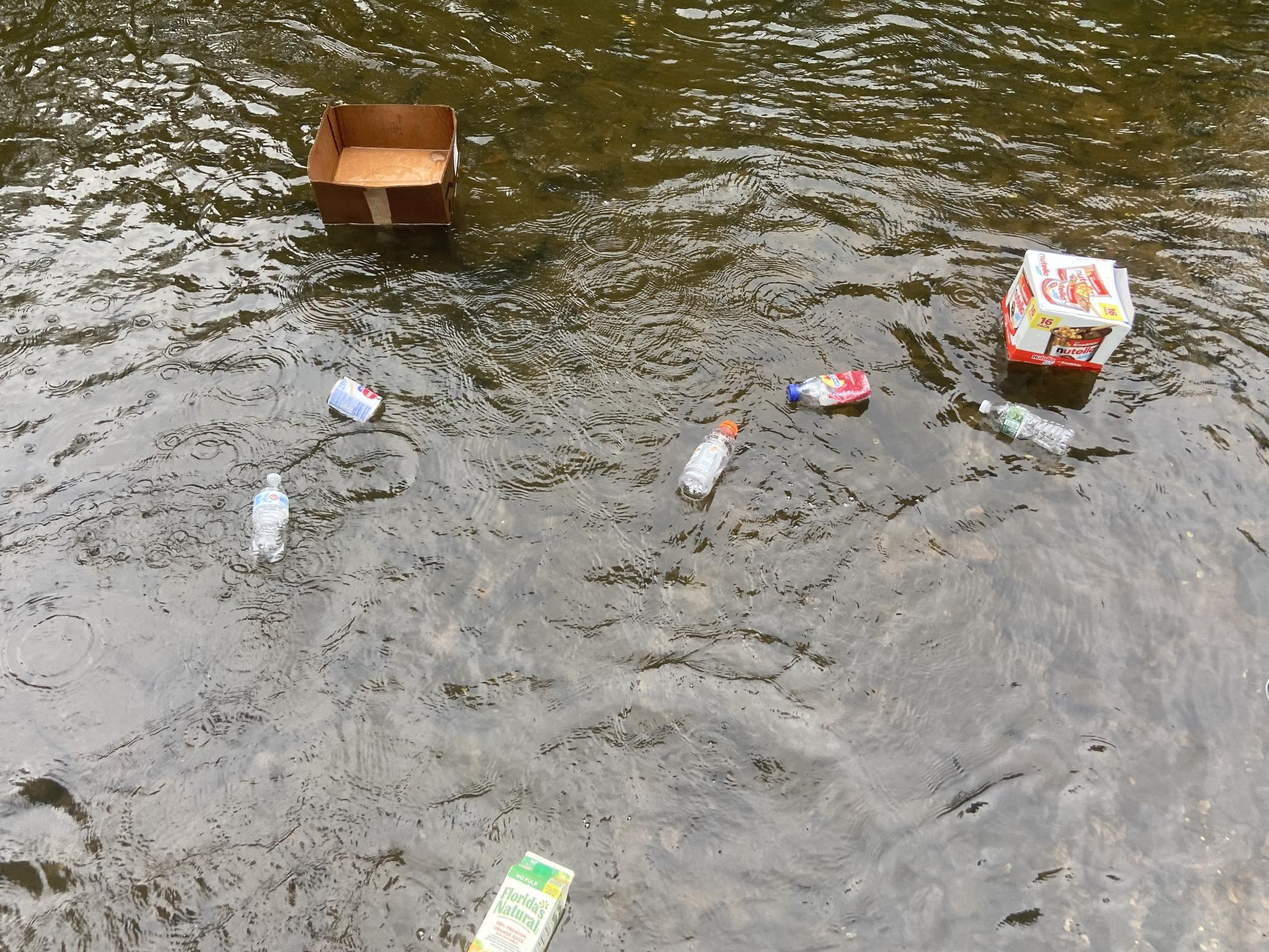cardboard: (300, 92, 469, 235), (991, 245, 1139, 380), (466, 843, 586, 952)
metal: (323, 372, 396, 431)
plastic: (972, 394, 1079, 471), (673, 411, 743, 508), (241, 466, 296, 574), (777, 363, 879, 416)
